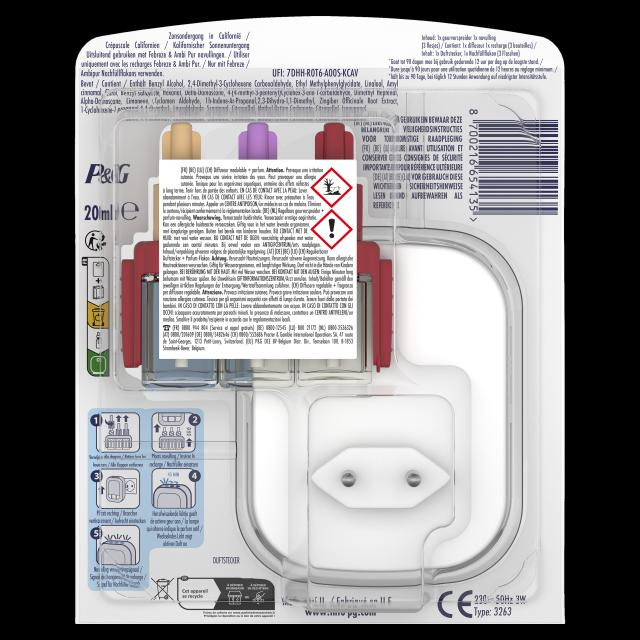GHS_Symbol_ENVIRONMENT: (310, 165, 353, 208)
GHS_Symbol_EXCLAMATION_MARK: (310, 209, 353, 250)
